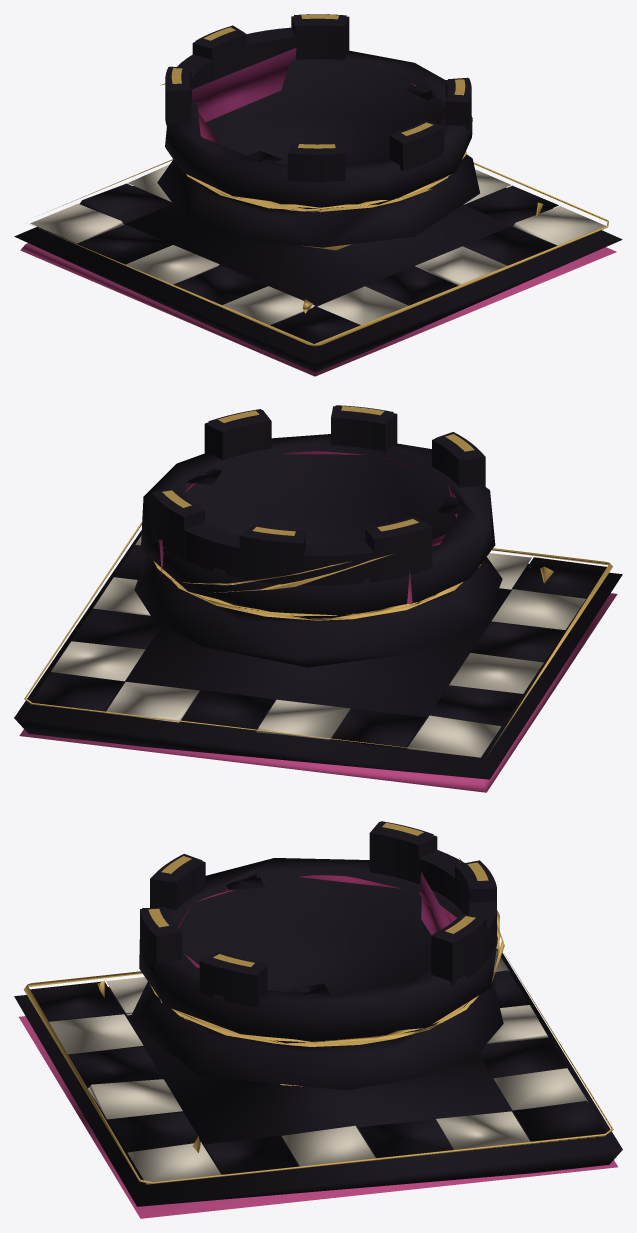
File: kart.body.checkmate.lod1.glb
3 views of the same model, one above another, from view 1: azimuth 30°, elevation 25°; view 2: azimuth 150°, elevation 25°; view 3: azimuth 270°, elevation 25° (orthographic). The views are drawn at different scales.
Visible parts, largest first — view 1: emi_vehicle_checkmate; view 2: emi_vehicle_checkmate; view 3: emi_vehicle_checkmate.
Boxes of the visible parts, x1,y1,x2,y2 form: emi_vehicle_checkmate: (14, 14, 622, 376); emi_vehicle_checkmate: (14, 405, 622, 792); emi_vehicle_checkmate: (14, 821, 622, 1218).
Size of the model in its own units: 0.4827 by 0.1789 by 0.4806.
